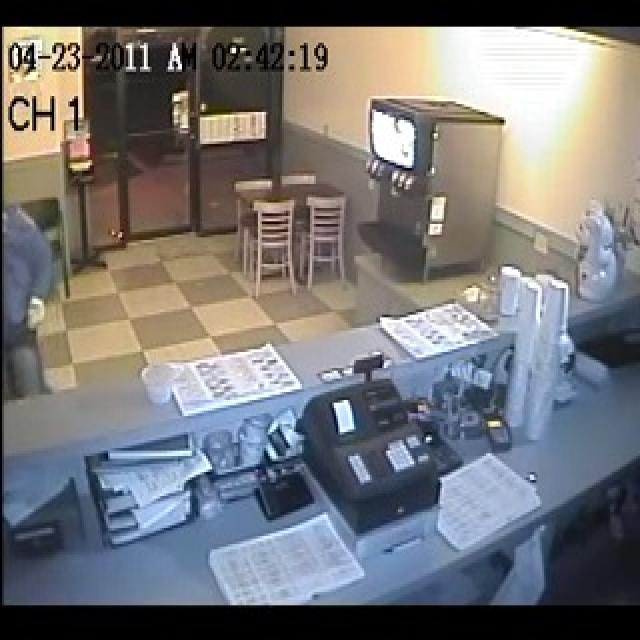thief: (0, 181, 67, 404)
